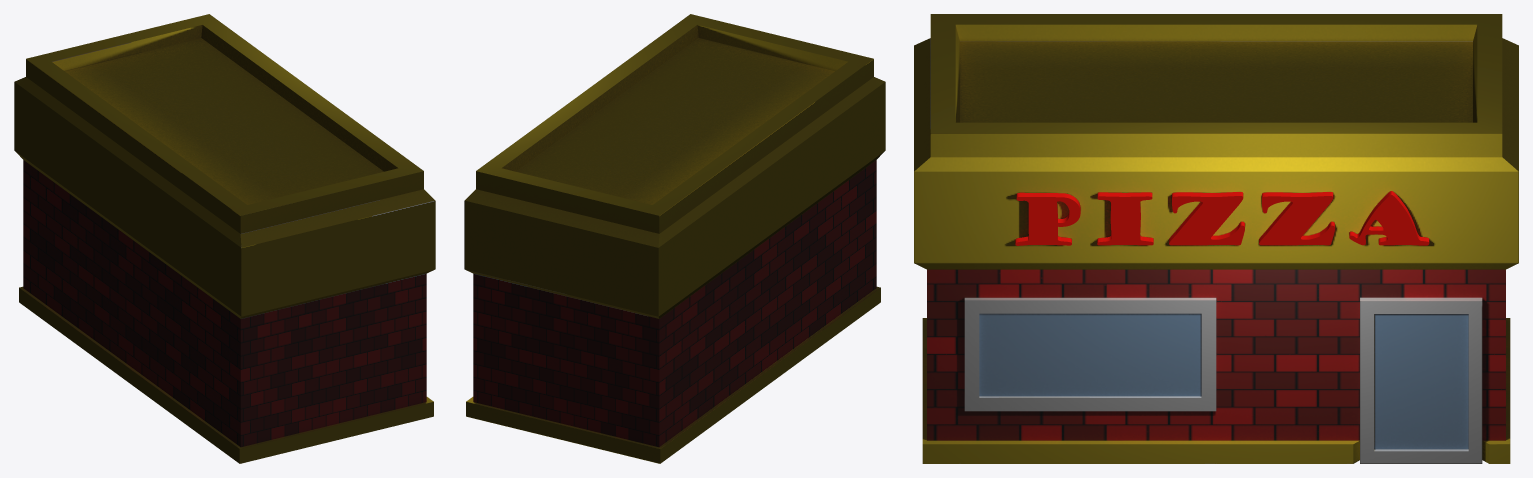
The model's file is pizzeria.fbx.
3 renders of one model, left to right at view 1: azimuth 30°, elevation 25°; view 2: azimuth 150°, elevation 25°; view 3: azimuth 270°, elevation 25°, orthographic. The views are drawn at different scales.
Visible parts, largest first — view 1: Pizzeria; view 2: Pizzeria; view 3: Pizzeria, Pizza Text.
Part boxes in pixels (bbox=[...]): Pizzeria: bbox=[14, 14, 435, 463]; Pizzeria: bbox=[464, 14, 885, 463]; Pizzeria: bbox=[914, 14, 1518, 463]; Pizza Text: bbox=[1015, 191, 1429, 245].
Size of the model in its own units: 476 by 556 by 933.
